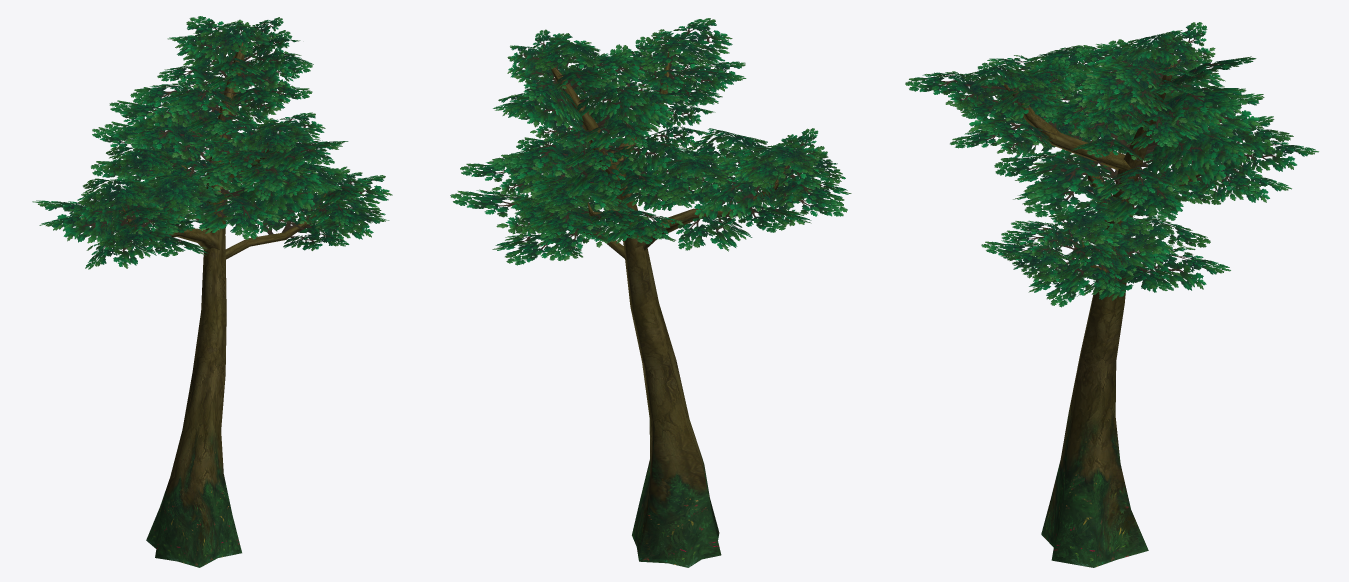
Rendered from fb_tys_tree_02.FBX.
The picture shows the model from 3 angles, left to right: view 1: azimuth 30°, elevation 25°; view 2: azimuth 150°, elevation 25°; view 3: azimuth 270°, elevation 25°; orthographic projection. The views are drawn at different scales.
Visible parts, largest first — view 1: fb_tys_tree_02_b, fb_tys_tree_02_a; view 2: fb_tys_tree_02_b, fb_tys_tree_02_a; view 3: fb_tys_tree_02_b, fb_tys_tree_02_a.
Part boxes in pixels (x1,y1,x2,y2): fb_tys_tree_02_b: (32, 16, 392, 269); fb_tys_tree_02_a: (122, 42, 326, 567); fb_tys_tree_02_b: (450, 18, 851, 265); fb_tys_tree_02_a: (548, 51, 787, 567); fb_tys_tree_02_b: (905, 22, 1318, 307); fb_tys_tree_02_a: (1003, 63, 1205, 567).
Bounding box in the file's own units: 687 × 828 × 607.
